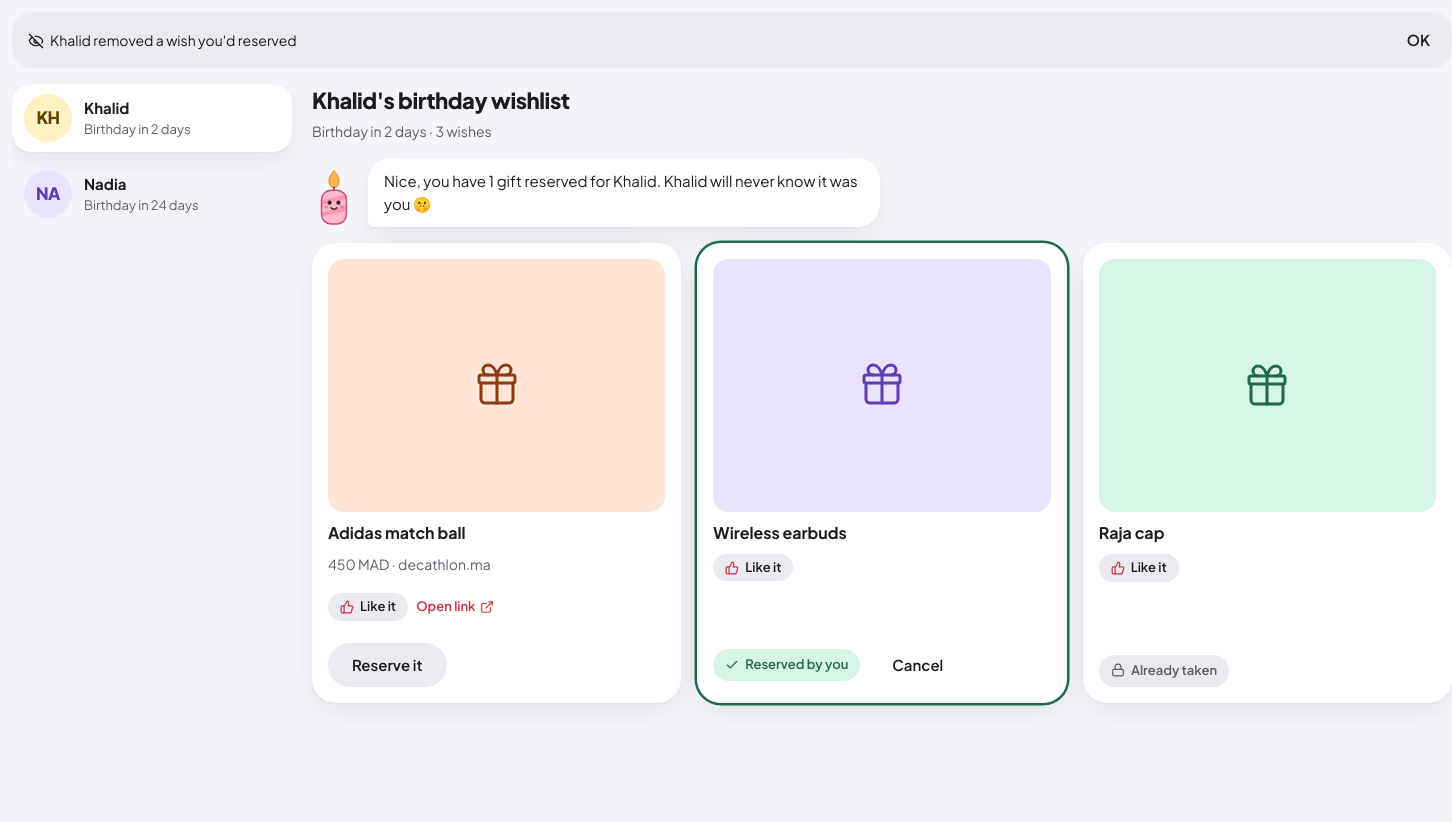
Test: Friends' wishlists › shows the quiet note and hides it with OK
Expected: the text "Khalid removed a wish you'd reserved" is shown, [28,30,297,50]
Click the button with aria-label "OK, hide the note: Khalid removed a wish you'd reserved". click: {"x": 1418, "y": 40}
box: [1391,18,1446,62]
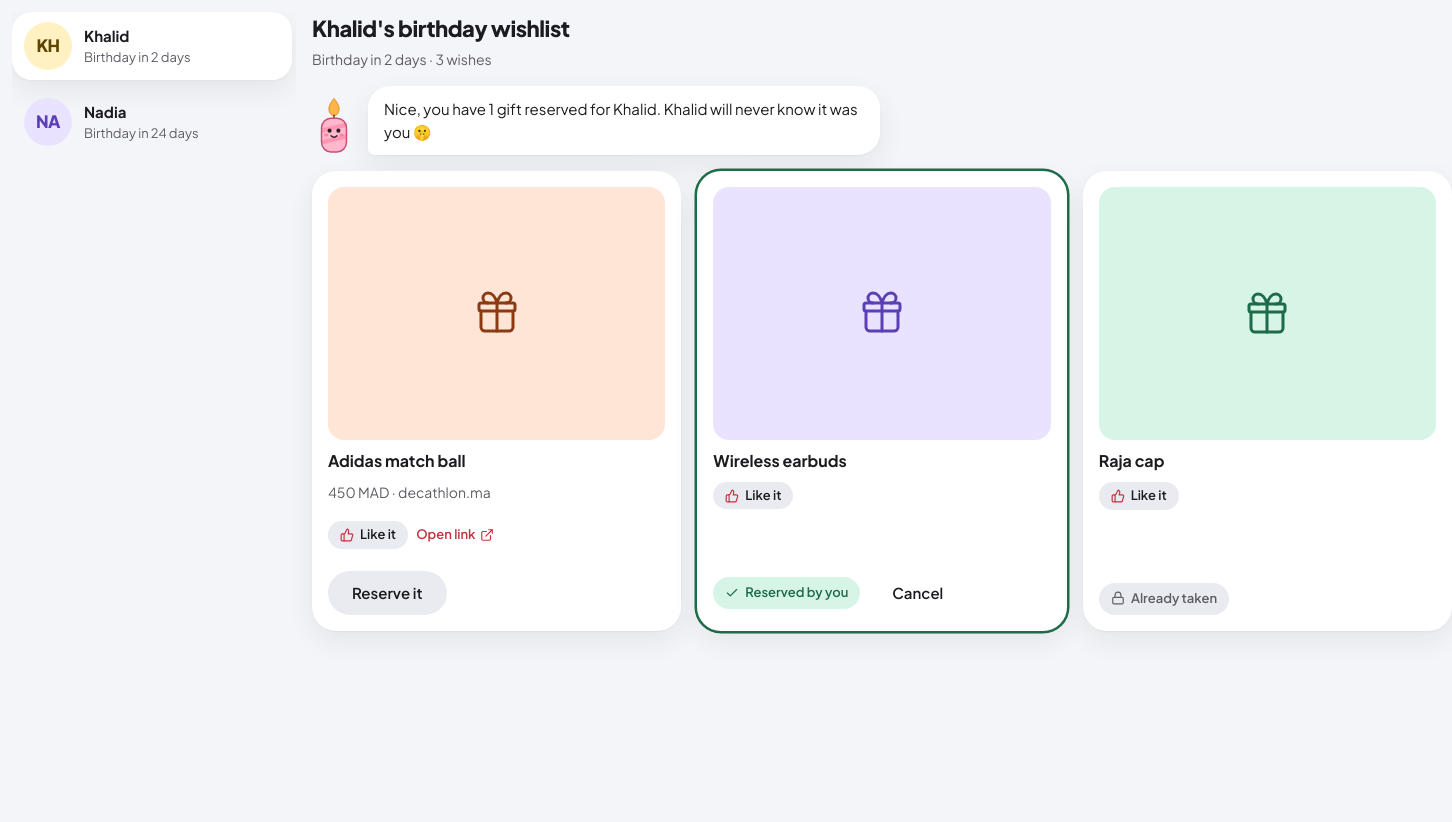
Result: the text "Khalid removed a wish you'd reserved" is gone
